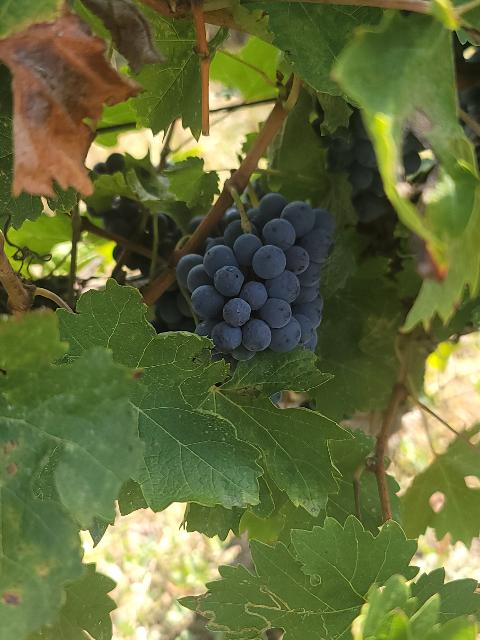grapes: (176, 194, 335, 361)
